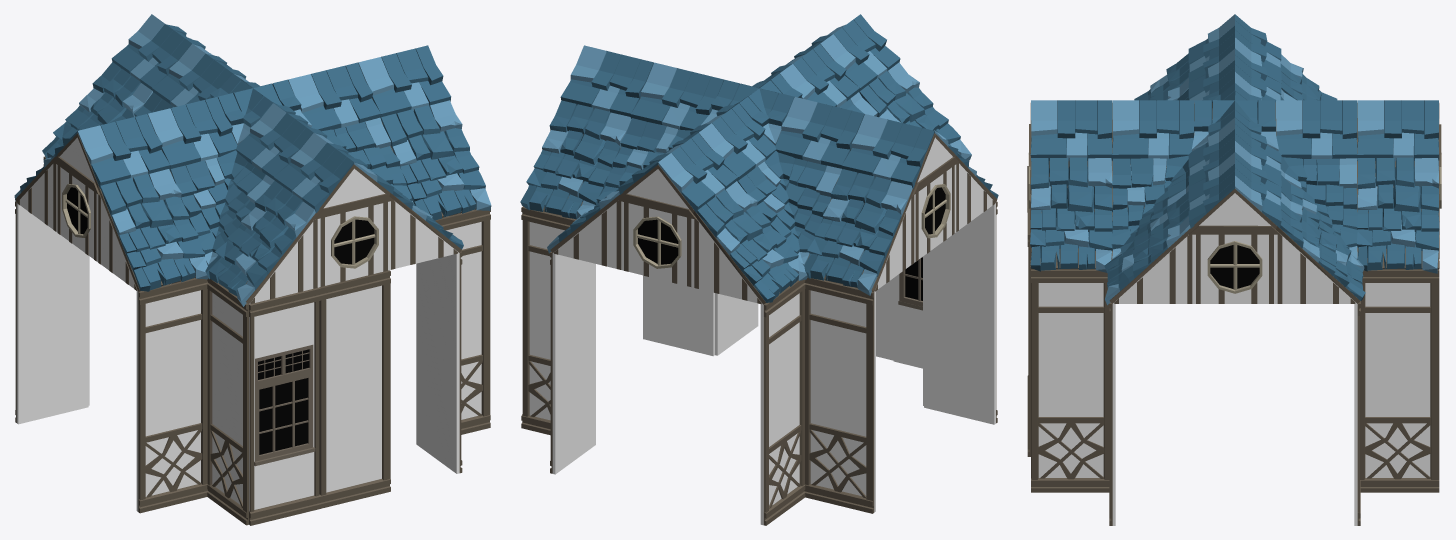
The model's file is House_02_parts.fbx.
3 views of the same model, side by side, from view 1: azimuth 30°, elevation 25°; view 2: azimuth 150°, elevation 25°; view 3: azimuth 270°, elevation 25° (orthographic).
Parts seen in each view (by area): view 1: WALL_03_2, WALL_04_3, WINDOW_04_2, WALL_04_4, WALL_04_9, WALL_04_2, ROOF_base_3, ROOF_base_5, WALL_04_8, ROOF_base_2, ROOF_inner_corner_2, ROOF_Window_round_5 (+21 smaller); view 2: WALL_04_4, WALL_04_3, WALL_04_5, WALL_04_6, ROOF_base_9, ROOF_base_7, WALL_04_7, ROOF_base_8, ROOF_inner_corner_5, ROOF_Window_round_3, WALL_04_8, ROOF_base_small_15 (+23 smaller); view 3: WALL_04_6, WALL_04_9, ROOF_base_6, ROOF_base_4, ROOF_Window_round_2, ROOF_inner_corner_3, ROOF_inner_corner_4, ROOF_base_small_14, ROOF_base_small_8, ROOF_base_small_13, ROOF_base_small_7, ROOF_base_5 (+19 smaller).
Part boxes in pixels (box(x1,y1,x2,y2)): WALL_03_2: box(319, 270, 390, 508); WALL_04_3: box(136, 278, 207, 513); WINDOW_04_2: box(249, 287, 320, 525); WALL_04_4: box(15, 201, 88, 424); WALL_04_9: box(416, 251, 462, 473); WALL_04_2: box(207, 278, 248, 525); ROOF_base_3: box(98, 169, 208, 291); ROOF_base_5: box(381, 100, 491, 220); WALL_04_8: box(435, 209, 490, 434); ROOF_base_2: box(205, 180, 318, 306); ROOF_inner_corner_2: box(170, 150, 274, 265); ROOF_Window_round_5: box(319, 201, 389, 287); WALL_04_4: box(804, 277, 875, 513); WALL_04_3: box(924, 201, 997, 424); WALL_04_5: box(760, 280, 805, 525); WALL_04_6: box(550, 251, 595, 474); ROOF_base_9: box(804, 169, 914, 295); ROOF_base_7: box(520, 100, 631, 219); WALL_04_7: box(521, 206, 576, 435); ROOF_base_8: box(693, 181, 807, 304); ROOF_inner_corner_5: box(738, 151, 841, 265); ROOF_Window_round_3: box(623, 202, 693, 287); WALL_04_8: box(643, 275, 714, 356); ROOF_base_small_15: box(841, 114, 934, 188); WALL_04_6: box(1360, 269, 1439, 492); WALL_04_9: box(1031, 269, 1109, 492); ROOF_base_6: box(1356, 157, 1439, 273); ROOF_base_4: box(1030, 157, 1112, 272); ROOF_Window_round_2: box(1194, 234, 1275, 303); ROOF_inner_corner_3: box(1111, 155, 1189, 259); ROOF_inner_corner_4: box(1280, 155, 1357, 259); ROOF_base_small_14: box(1357, 100, 1439, 161); ROOF_base_small_8: box(1030, 100, 1112, 161); ROOF_base_small_13: box(1275, 100, 1357, 160); ROOF_base_small_7: box(1112, 100, 1194, 160); ROOF_base_5: box(1104, 191, 1193, 305).
Size of the model in its own units: 506 by 459 by 507.
